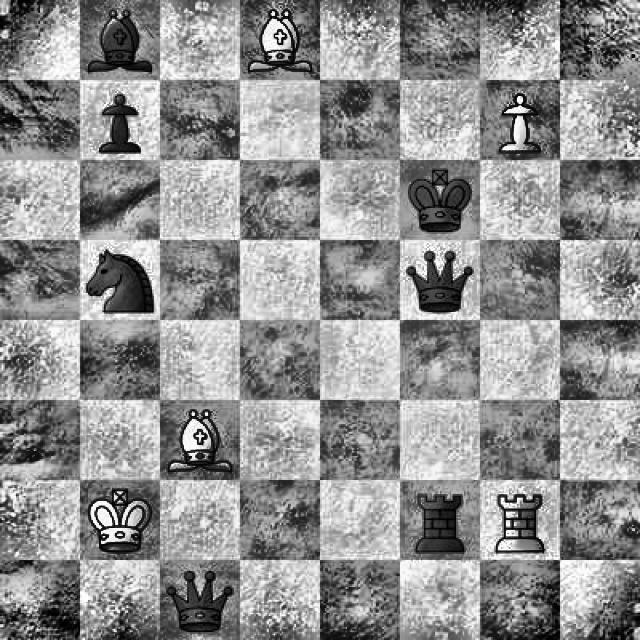Black Knight: (89, 247, 158, 317)
black bishop: (83, 0, 158, 78)
black king: (406, 163, 472, 236)
black pawn: (87, 89, 152, 156)
black queen: (402, 244, 478, 316), (164, 565, 236, 634)
black rook: (404, 483, 473, 556)
white bishop: (247, 0, 315, 76), (162, 405, 234, 476)
white king: (84, 484, 158, 556)
white pawn: (487, 90, 549, 158)
white rook: (485, 484, 557, 557)
